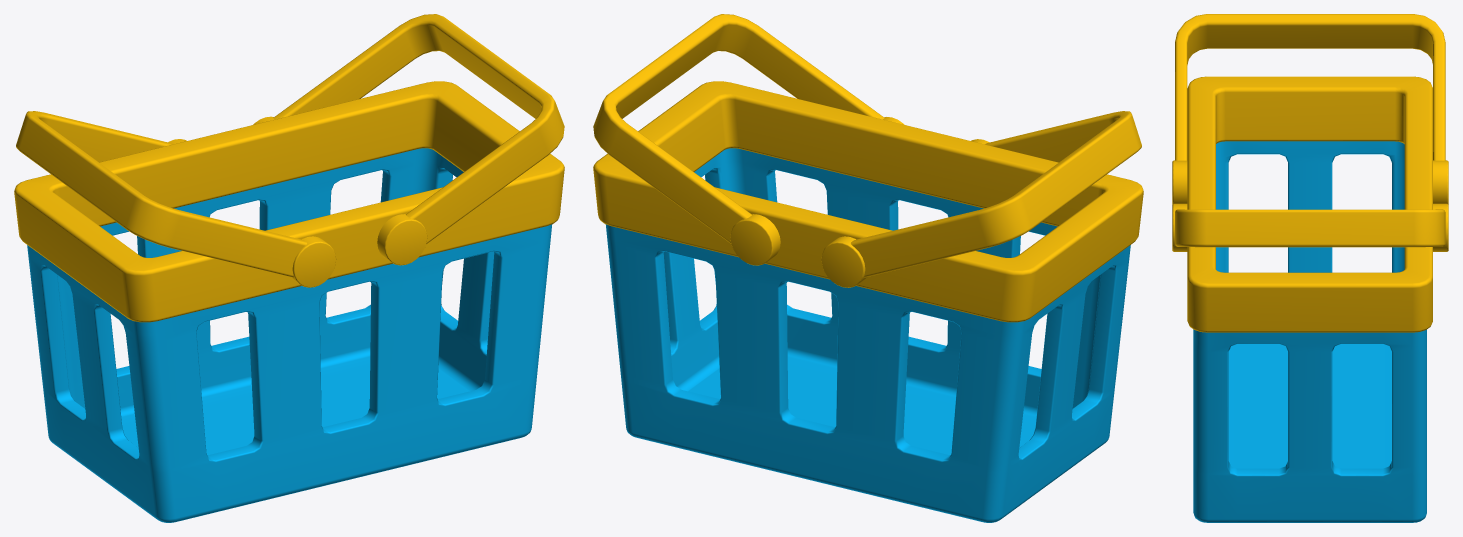
The model's file is Public_10_Food_Basket_1.glb.
3 renders of one model, left to right at view 1: azimuth 30°, elevation 25°; view 2: azimuth 150°, elevation 25°; view 3: azimuth 270°, elevation 25°, orthographic. The views are drawn at different scales.
Visible parts, largest first — view 1: Public_10_Food_Basket_1; view 2: Public_10_Food_Basket_1; view 3: Public_10_Food_Basket_1.
Part boxes in pixels (x1=…): Public_10_Food_Basket_1: x1=14, y1=14, x2=564, y2=522; Public_10_Food_Basket_1: x1=593, y1=14, x2=1143, y2=522; Public_10_Food_Basket_1: x1=1172, y1=14, x2=1448, y2=522.
Bounding box in the file's own units: 3.09 × 2.22 × 1.72.
1 material, 1 textured.
